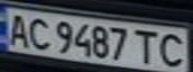4: (72, 20, 93, 56)
7: (109, 25, 133, 61)
8: (90, 22, 112, 60)
9: (51, 18, 75, 54)
A: (3, 11, 33, 47)
C: (154, 30, 190, 70), (24, 16, 54, 51)
T: (130, 27, 160, 65)
